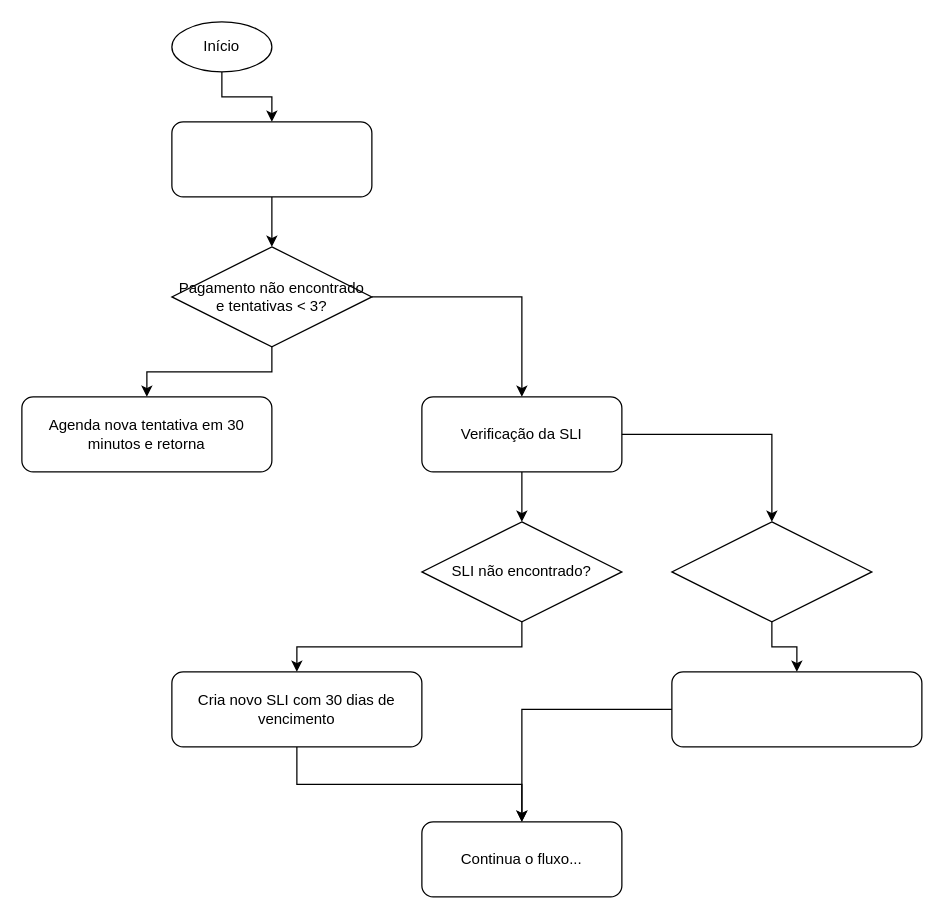
Some shapes in this 944 by 919 pixel diagram are drawn without their labels. Here are the shapes that lost their labels. From the top down, the centre of each, then its label:
At (271,159): "Obtém o Pagamento".
At (771,571): "SLI encontrado?".
At (796,709): "Atualiza data de confirmação do SLI".
